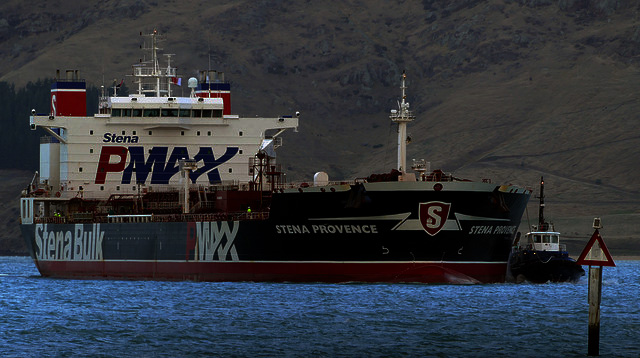tanker: (18, 27, 525, 281)
tug_boat: (512, 176, 587, 289)
